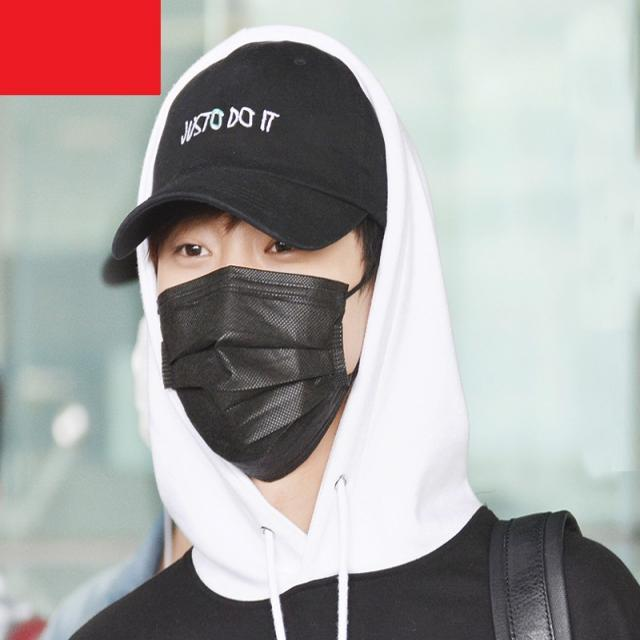mask: (155, 149, 352, 475)
